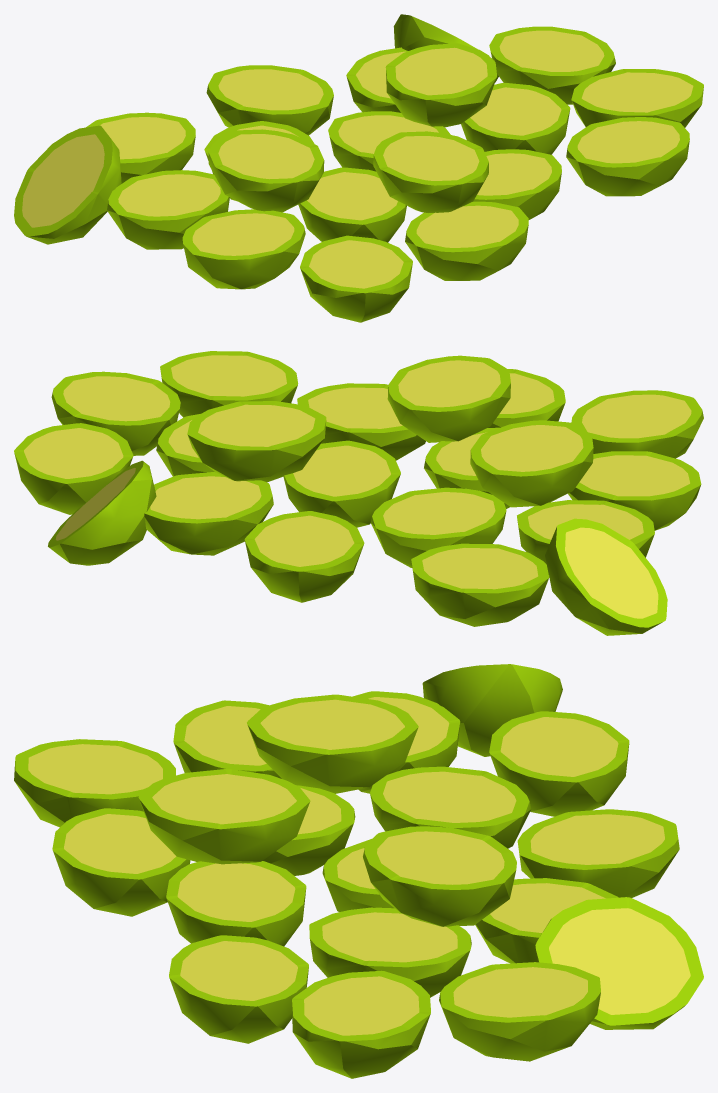
File: UvaVerdeCortada.fbx
3 renders of one model, top to bottom at view 1: azimuth 30°, elevation 25°; view 2: azimuth 150°, elevation 25°; view 3: azimuth 270°, elevation 25°, orthographic. The views are drawn at different scales.
Parts seen in each view (by area): view 1: UvaVerdeCortada; view 2: UvaVerdeCortada; view 3: UvaVerdeCortada.
Boxes of the visible parts, bbox=[...] form: UvaVerdeCortada: bbox=[14, 14, 703, 322]; UvaVerdeCortada: bbox=[14, 351, 703, 635]; UvaVerdeCortada: bbox=[14, 664, 703, 1078].
Bounding box in the file's own units: 12.29 × 1.79 × 9.39.
